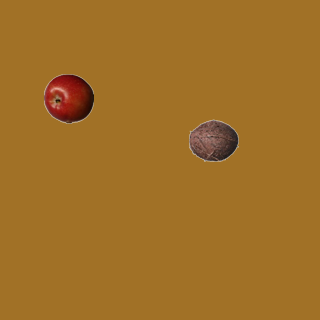Apple Braeburn: (43, 73, 93, 123)
Cocos: (188, 115, 238, 165)
